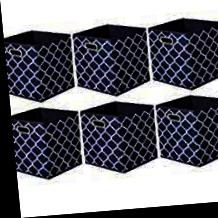cube: (68, 22, 147, 100), (76, 101, 152, 176), (144, 18, 218, 94), (8, 106, 80, 182), (3, 29, 73, 103), (152, 98, 218, 173)
